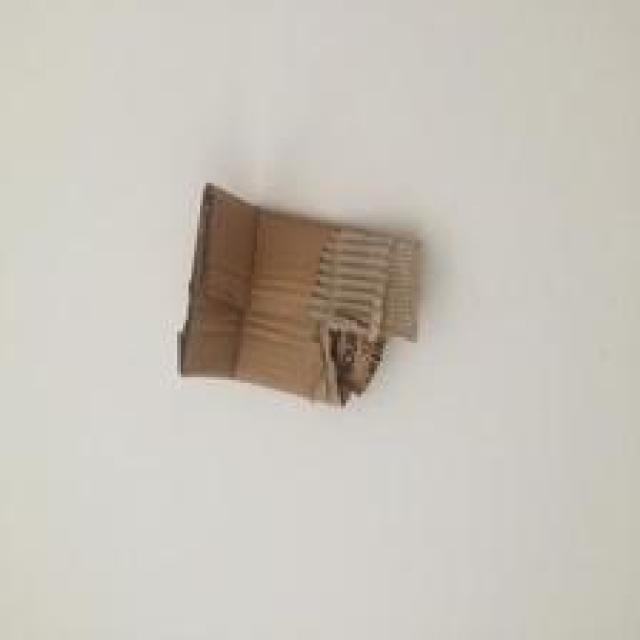Cardboard: (176, 178, 431, 417)
